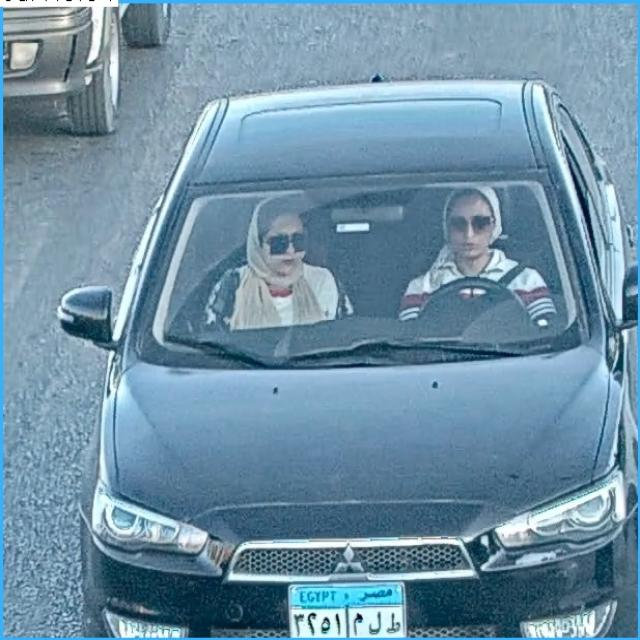windshield: (139, 181, 582, 352)
